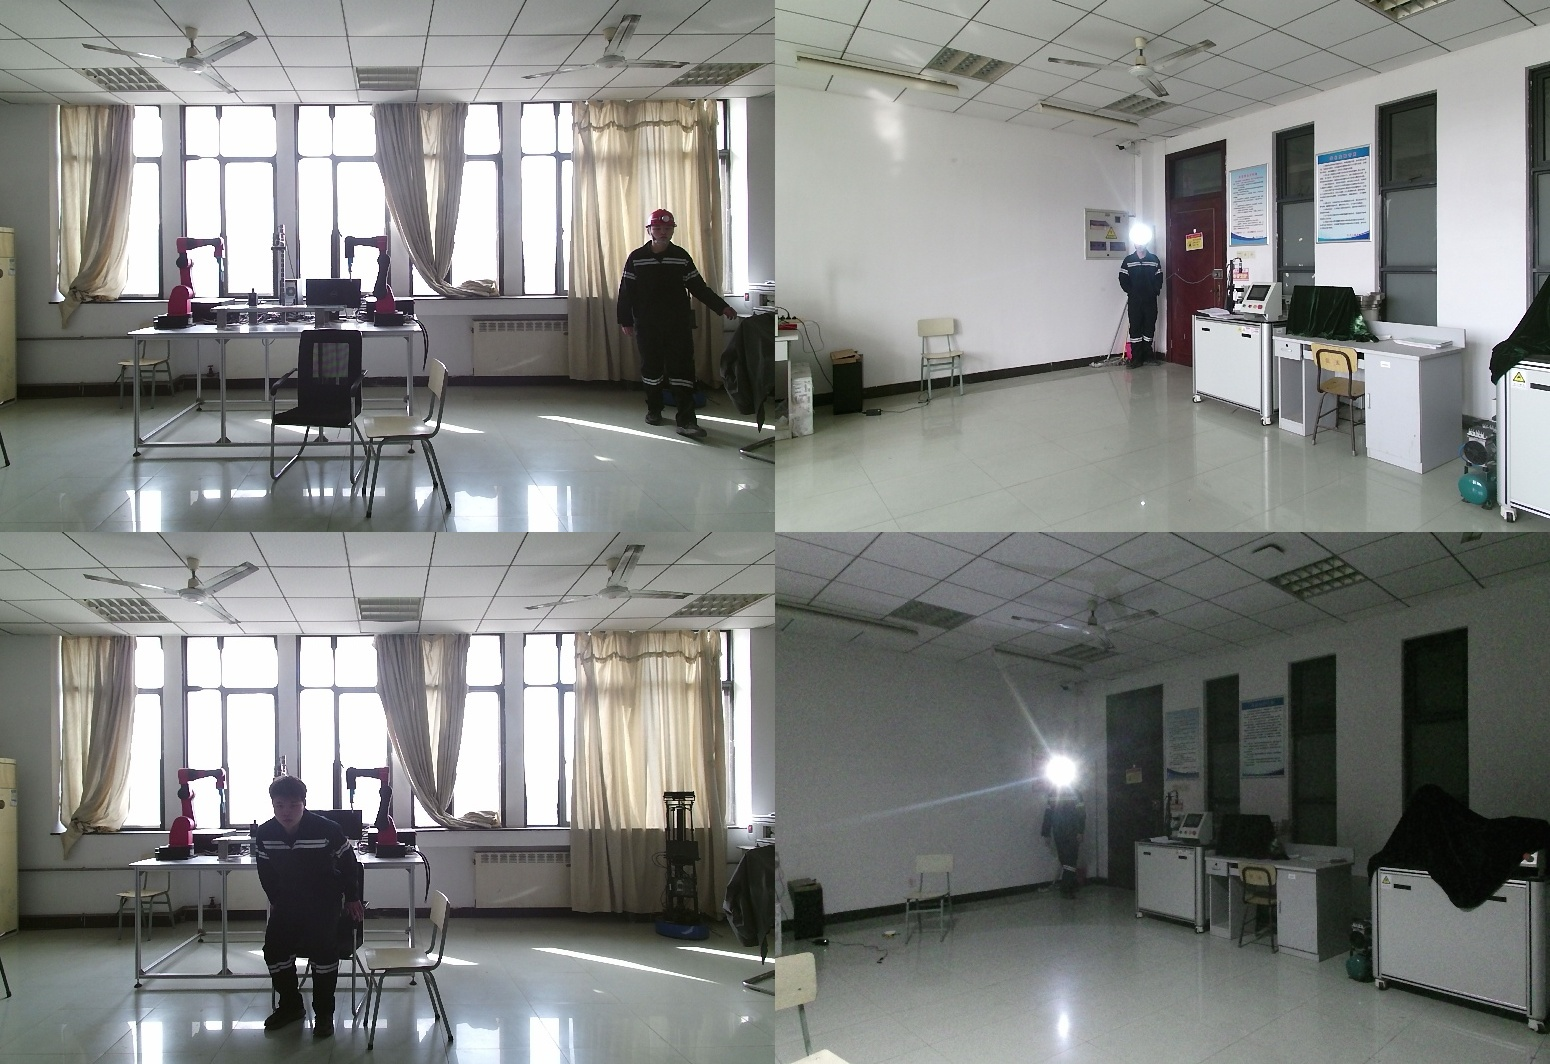person: (250, 780, 367, 1036), (620, 209, 725, 433), (1041, 768, 1089, 898), (1119, 231, 1164, 369)
